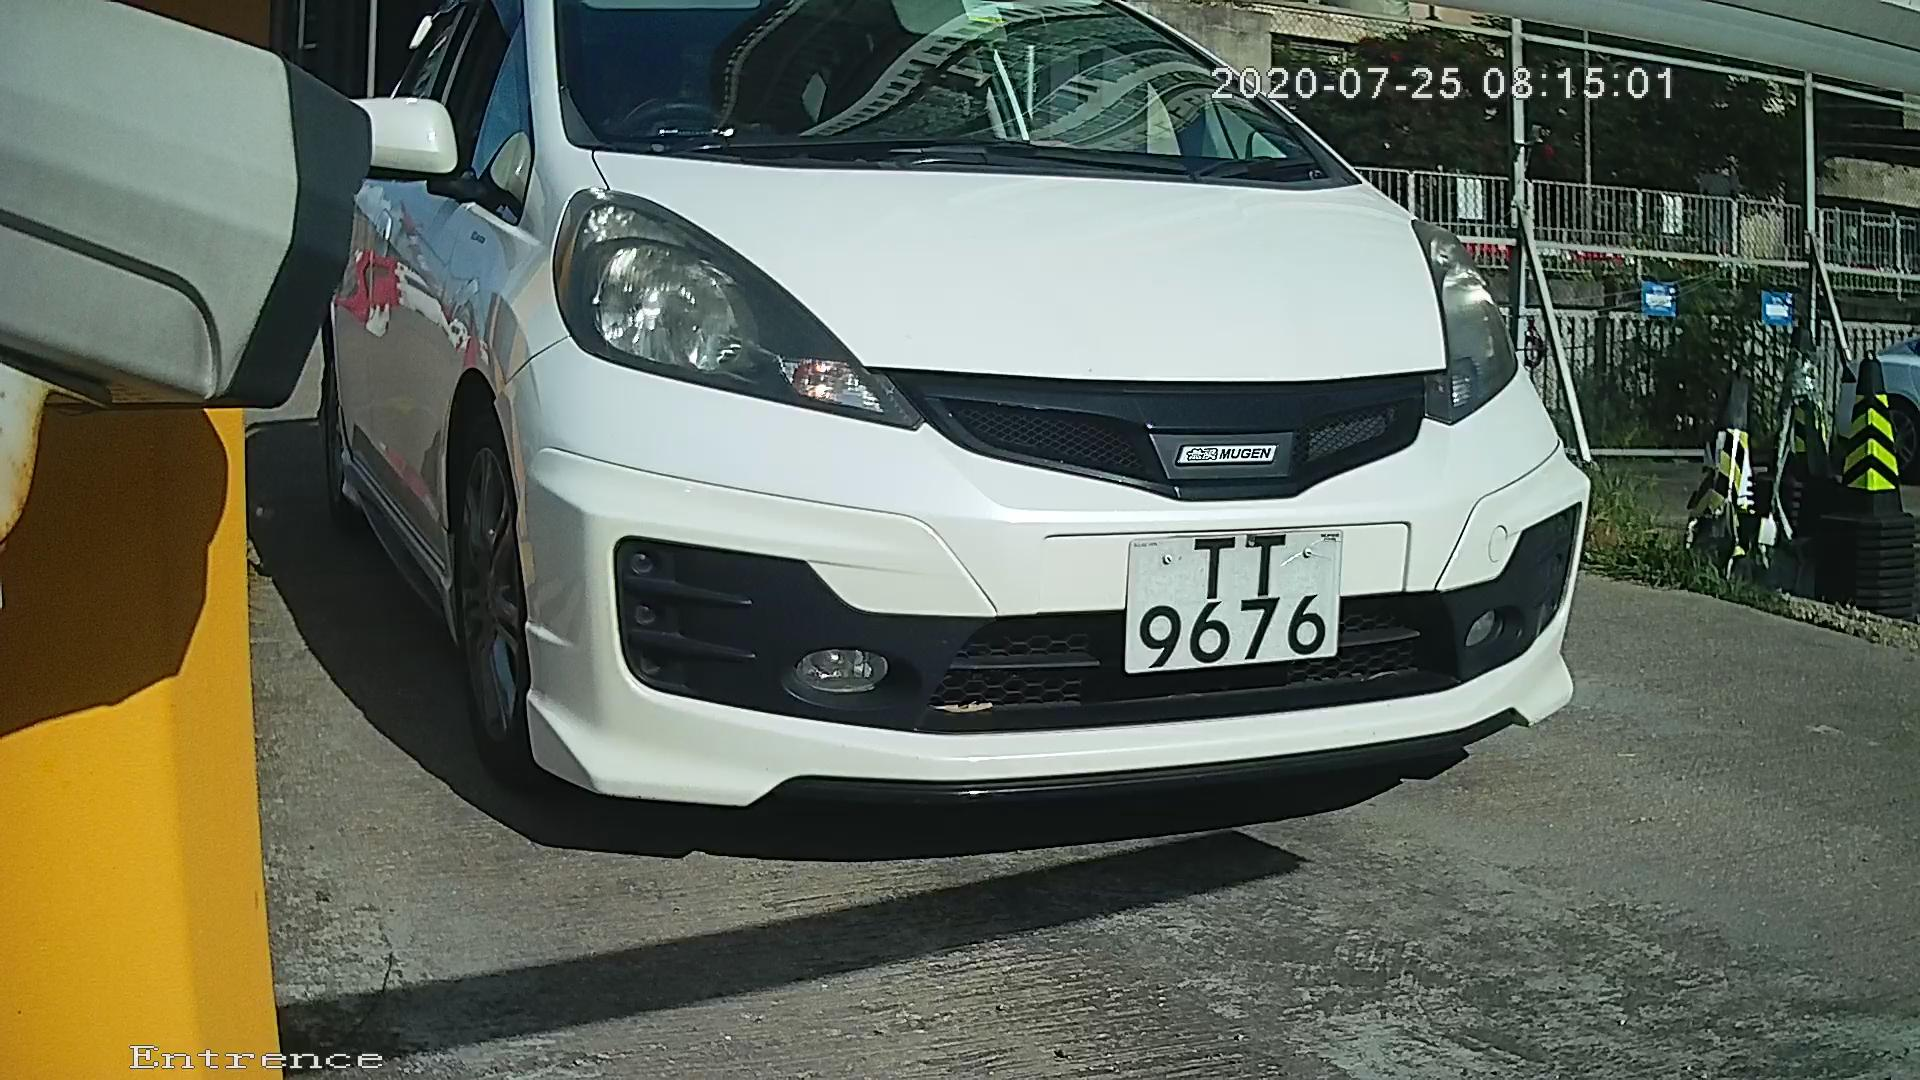License Plate: (1098, 492, 1398, 704)
